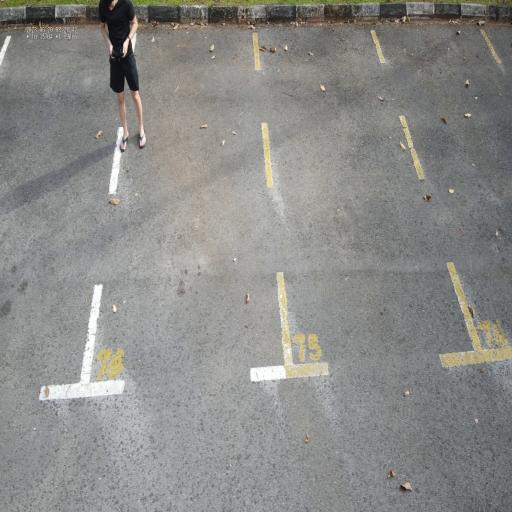Empty: (249, 8, 484, 388), (75, 8, 297, 406)
